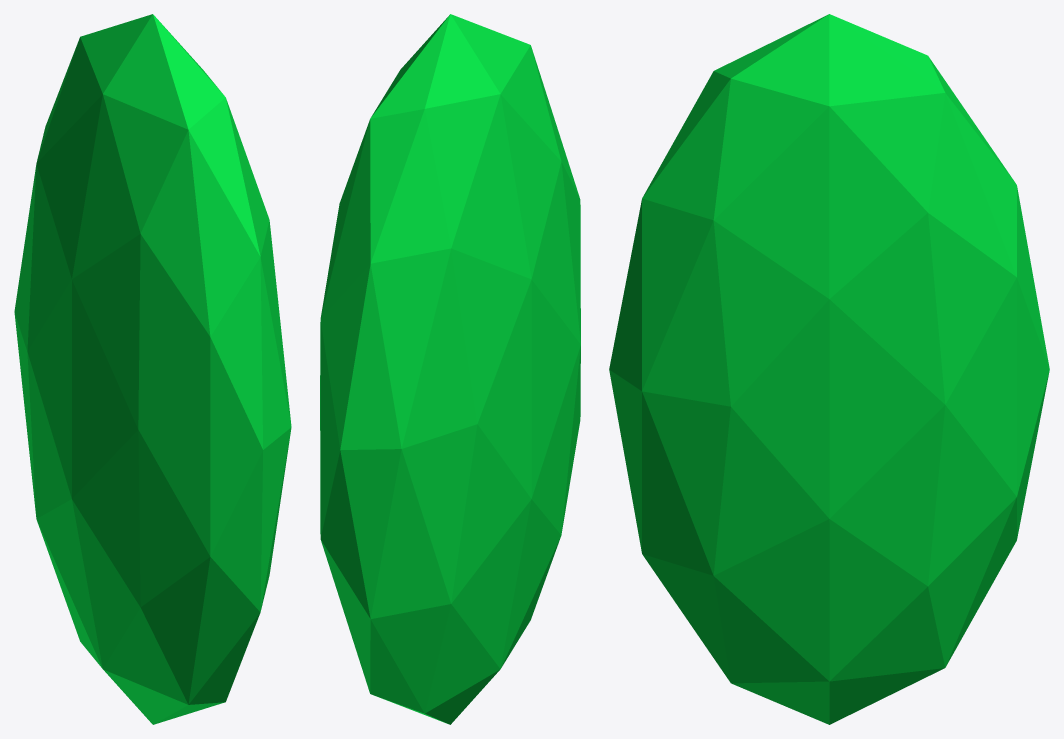
File: krysztal.fbx
3 views of the same model, side by side, from view 1: azimuth 30°, elevation 25°; view 2: azimuth 150°, elevation 25°; view 3: azimuth 270°, elevation 25° (orthographic).
Visible parts, largest first — view 1: Icosphere; view 2: Icosphere; view 3: Icosphere.
Boxes of the visible parts, <box> form: Icosphere: <box>14,14,291,724</box>; Icosphere: <box>320,14,580,724</box>; Icosphere: <box>609,14,1049,724</box>.
Size of the model in its own units: 120 by 502 by 282.
